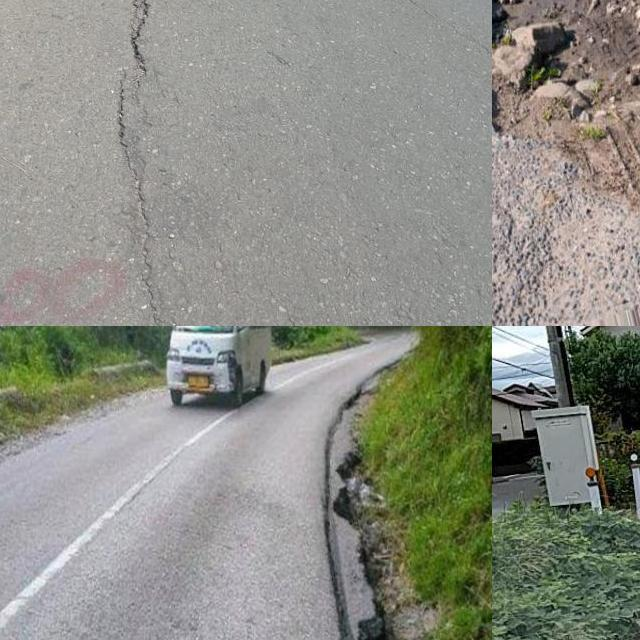Memanjang: (104, 0, 166, 291)
Pinggir: (492, 0, 640, 214), (308, 378, 414, 640)
